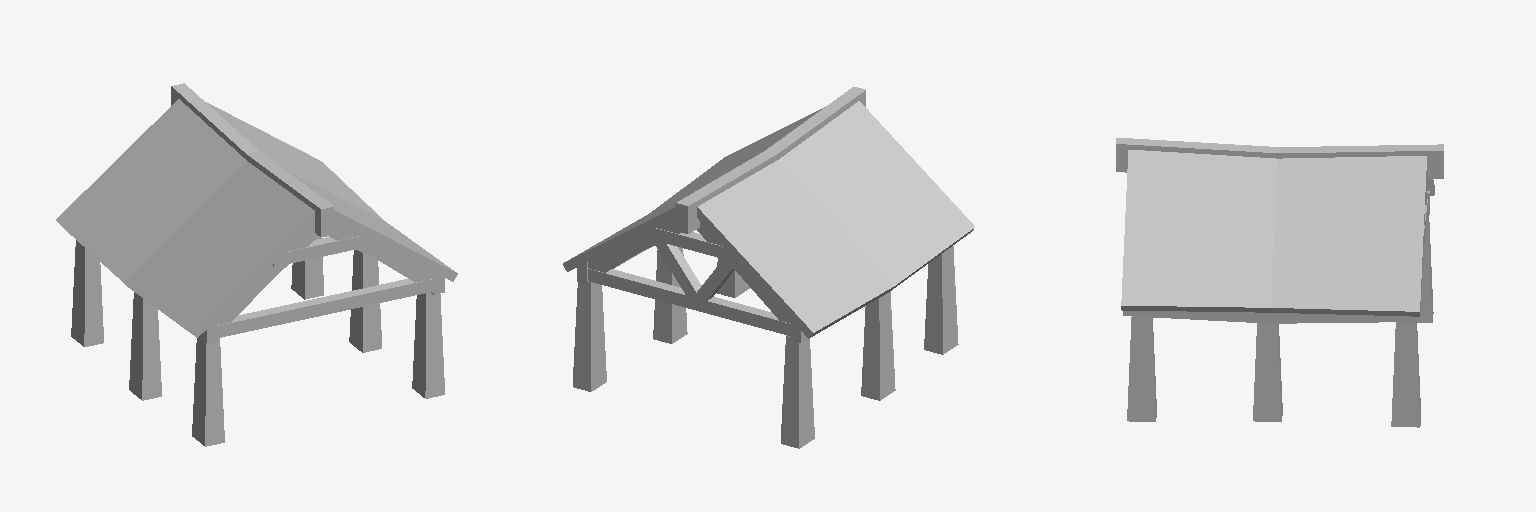
Rendered from blacksmith.obj.
3 views of the same model, side by side, from view 1: azimuth 30°, elevation 25°; view 2: azimuth 150°, elevation 25°; view 3: azimuth 270°, elevation 25° (orthographic).
Visible parts, largest first — view 1: EngineersShack_polySurface282, EngineersShack_polySurface281, EngineersShack_polySurface289, EngineersShack_polySurface299, EngineersShack_polySurface285, EngineersShack_polySurface286, EngineersShack_polySurface302, EngineersShack_polySurface288, EngineersShack_polySurface303, EngineersShack_polySurface291, EngineersShack_polySurface292, EngineersShack_polySurface290 (+1 smaller); view 2: EngineersShack_polySurface282, EngineersShack_polySurface299, EngineersShack_polySurface281, EngineersShack_polySurface293, EngineersShack_polySurface287, EngineersShack_polySurface288, EngineersShack_polySurface302, EngineersShack_polySurface285, EngineersShack_polySurface303, EngineersShack_polySurface297, EngineersShack_polySurface294, EngineersShack_polySurface296 (+2 smaller); view 3: EngineersShack_polySurface281, EngineersShack_polySurface299, EngineersShack_polySurface286, EngineersShack_polySurface287, EngineersShack_polySurface303, EngineersShack_polySurface300, EngineersShack_polySurface288.
Part boxes in pixels (x1,y1,x2,y2): EngineersShack_polySurface282: (56,99,314,337); EngineersShack_polySurface281: (206,102,457,281); EngineersShack_polySurface289: (215,279,433,338); EngineersShack_polySurface299: (171,83,333,237); EngineersShack_polySurface285: (192,337,224,446); EngineersShack_polySurface286: (412,292,444,398); EngineersShack_polySurface302: (129,292,161,400); EngineersShack_polySurface288: (71,240,103,346); EngineersShack_polySurface303: (349,250,381,352); EngineersShack_polySurface291: (329,221,433,292); EngineersShack_polySurface292: (217,223,317,324); EngineersShack_polySurface290: (273,236,366,266); EngineersShack_polySurface282: (697,101,974,338); EngineersShack_polySurface299: (676,87,865,233); EngineersShack_polySurface281: (563,107,824,271); EngineersShack_polySurface293: (588,268,789,335); EngineersShack_polySurface287: (573,281,606,391); EngineersShack_polySurface288: (781,335,814,448); EngineersShack_polySurface302: (861,291,895,400); EngineersShack_polySurface285: (924,246,958,354); EngineersShack_polySurface303: (653,247,687,343); EngineersShack_polySurface297: (588,218,680,272); EngineersShack_polySurface294: (649,231,703,307); EngineersShack_polySurface296: (651,228,737,262); EngineersShack_polySurface281: (1121,150,1426,316); EngineersShack_polySurface299: (1116,138,1443,178); EngineersShack_polySurface286: (1127,316,1156,421); EngineersShack_polySurface287: (1391,322,1420,427); EngineersShack_polySurface303: (1253,323,1282,421); EngineersShack_polySurface300: (1123,311,1416,323); EngineersShack_polySurface288: (1417,214,1433,322).
Size of the model in its own units: 5.87 by 4.56 by 6.15.